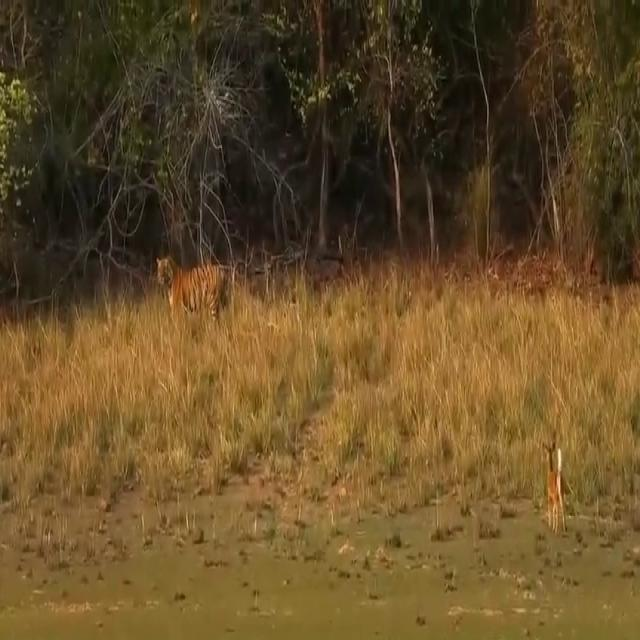tiger: (156, 254, 230, 328)
